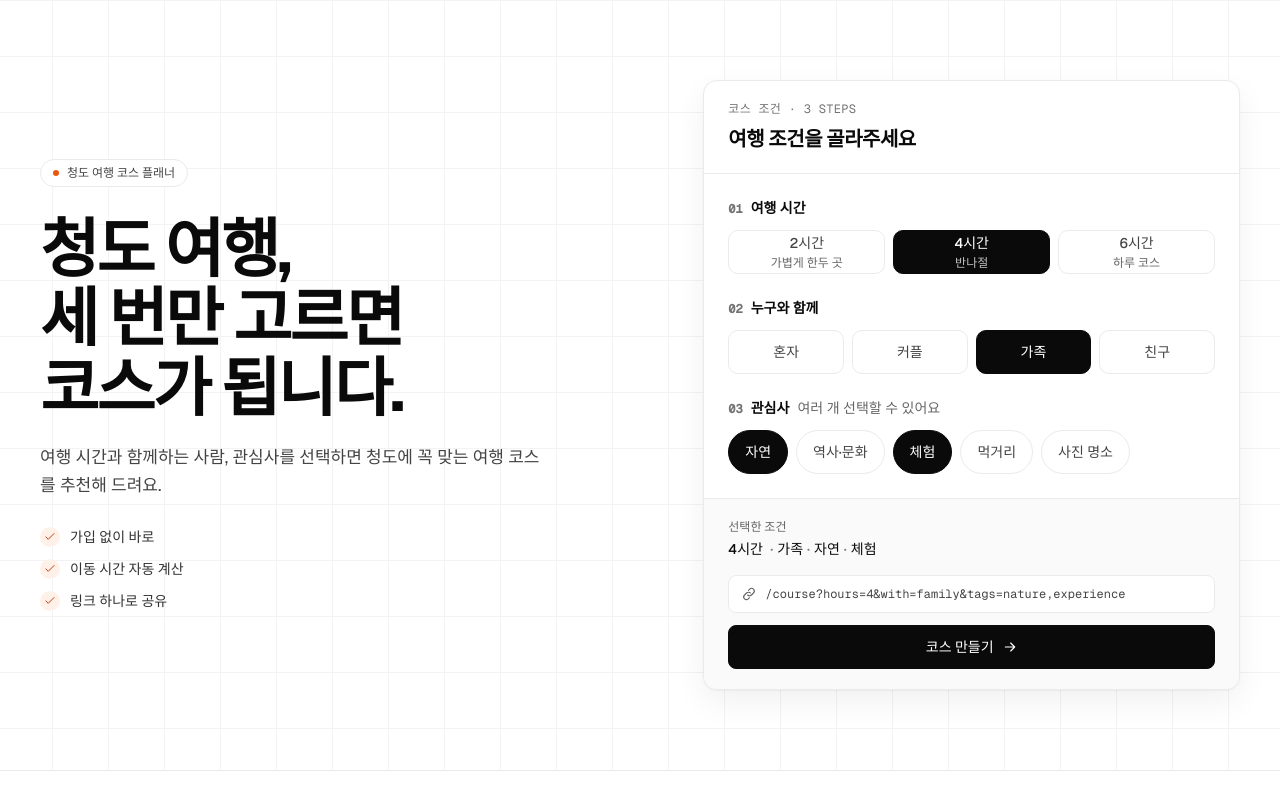
Test case: HomePage › disables course creation when every interest is cleared
Click the button "자연" at [758, 452], box [728,430,788,474]
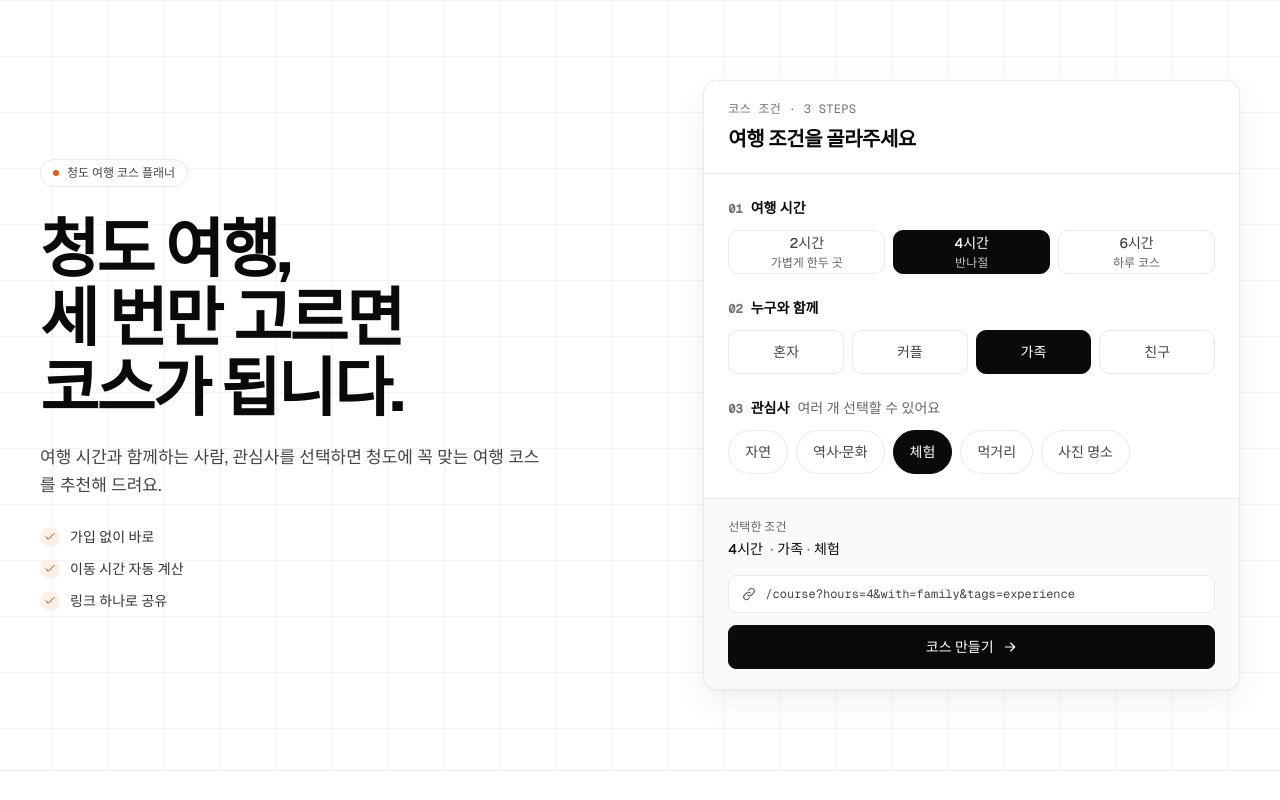
Click the button "체험" at [922, 452], box [893,430,952,474]
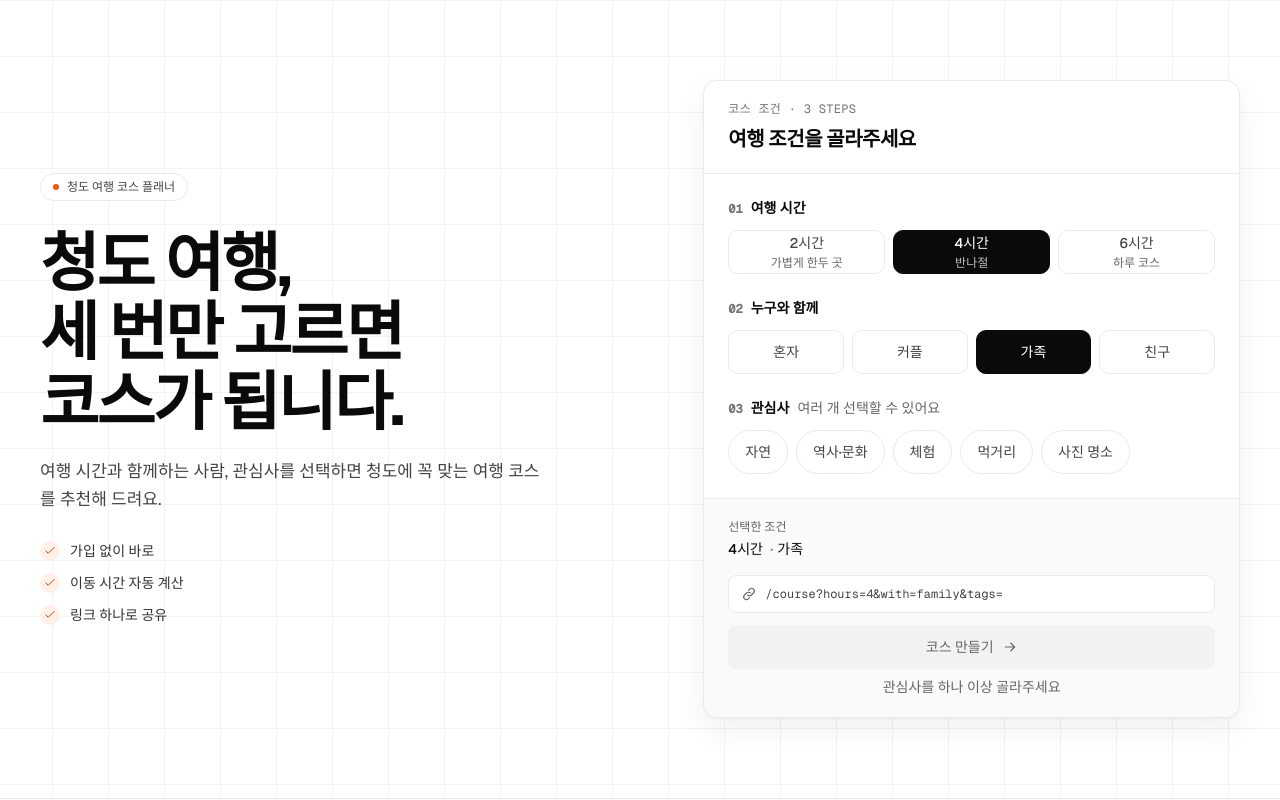
Expected: the button "코스 만들기" is disabled, [728,625,1215,669]
Expected: the text "관심사를 하나 이상 골라주세요" is shown, [883,678,1061,696]
